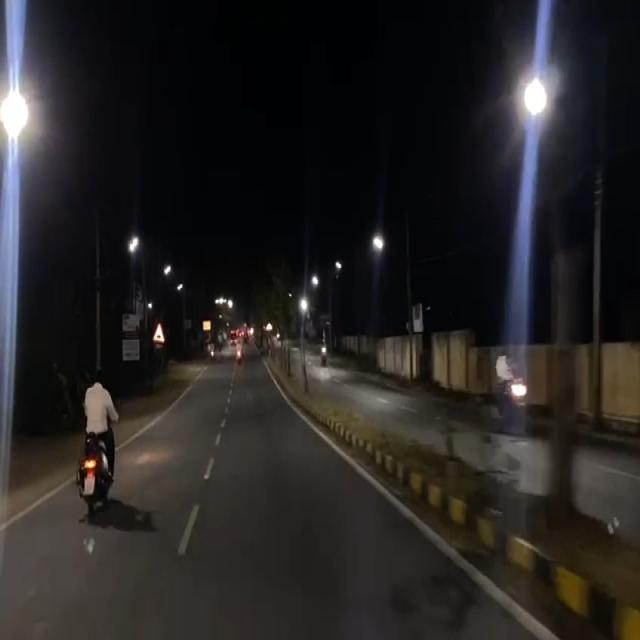bien_cam: (152, 322, 165, 343)
